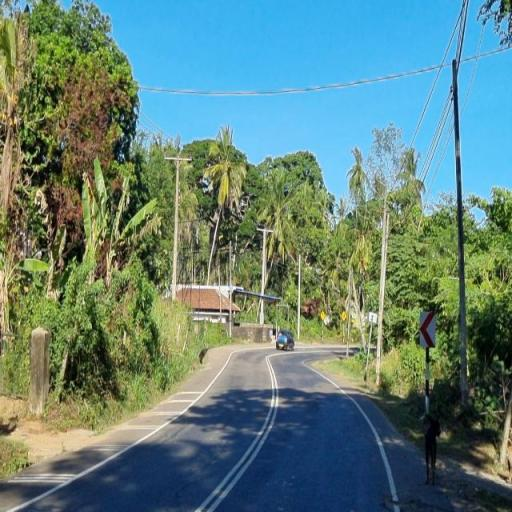double_white_line: (190, 354, 278, 510)
